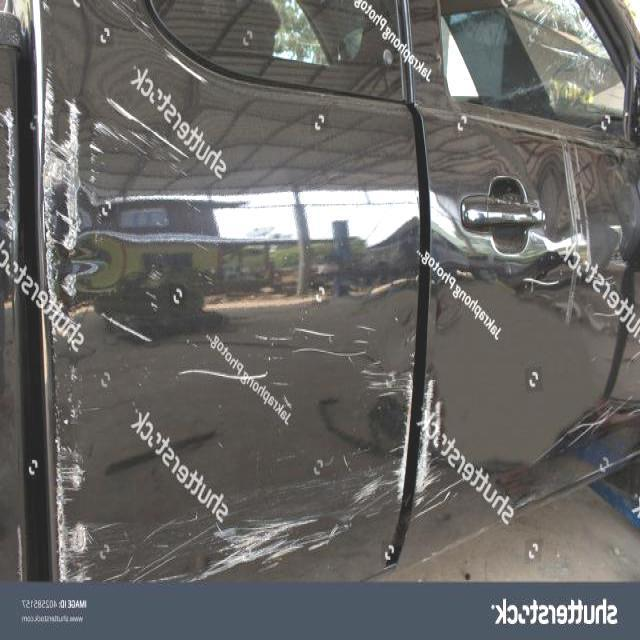minor: (174, 340, 270, 407)
moderate: (84, 105, 171, 211), (45, 105, 88, 296), (207, 516, 338, 576), (416, 381, 434, 503)
